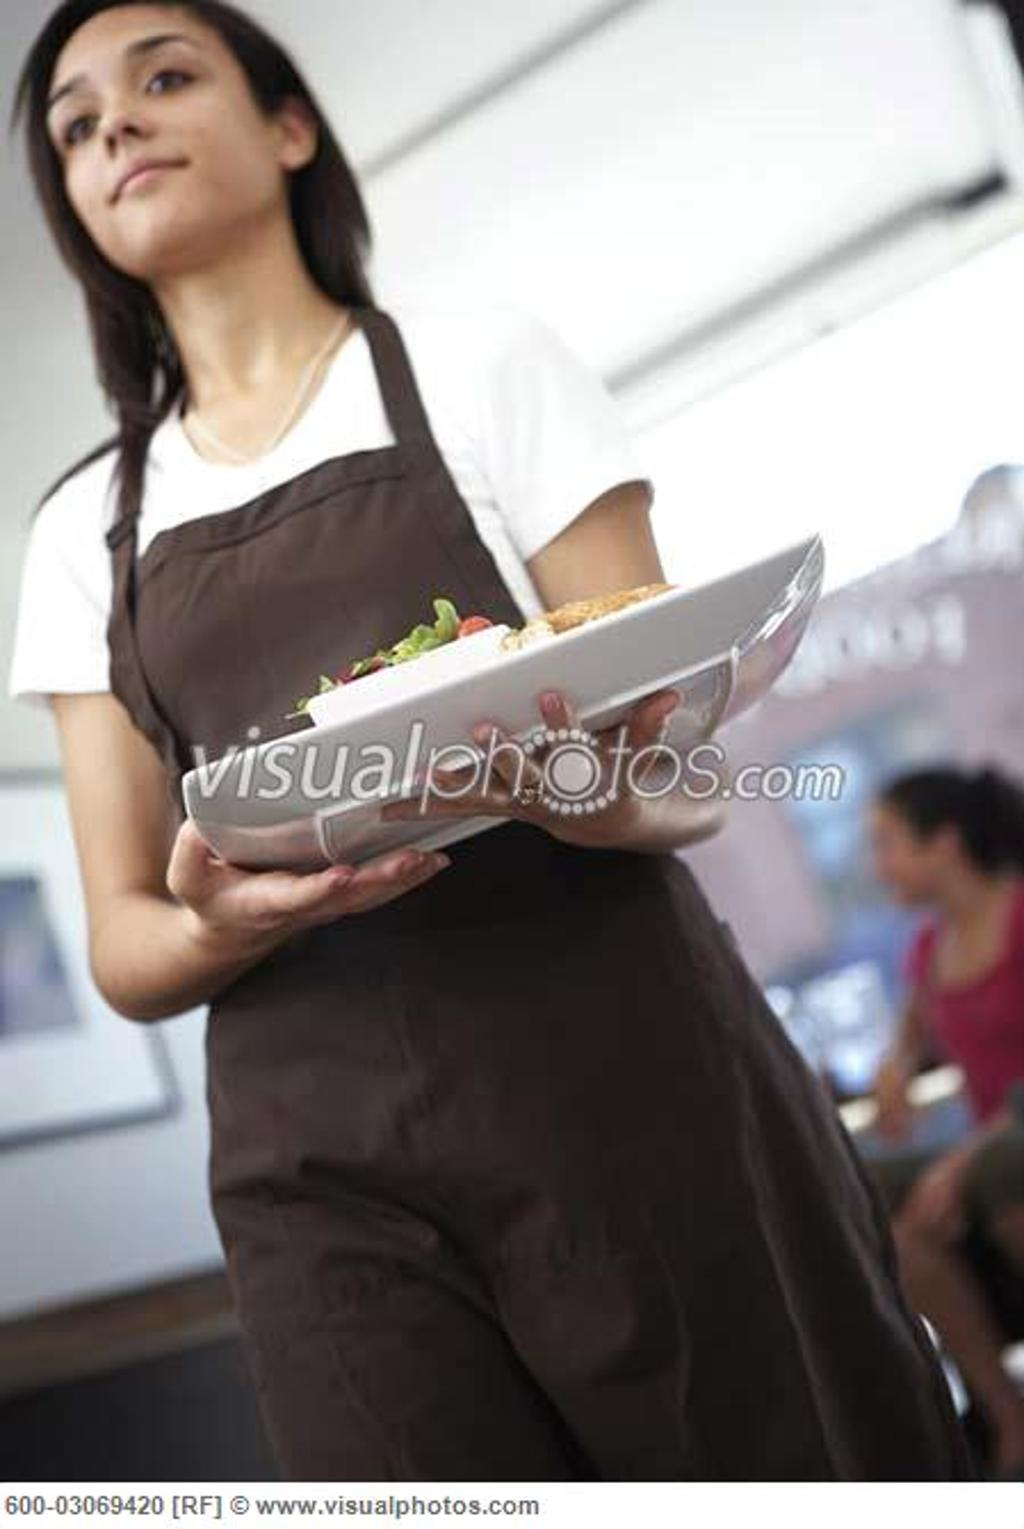face: (45, 15, 284, 263)
